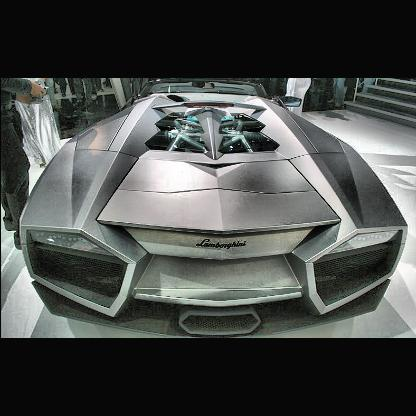Lamborghini Reventon Coupe 2008: (19, 88, 409, 336)
